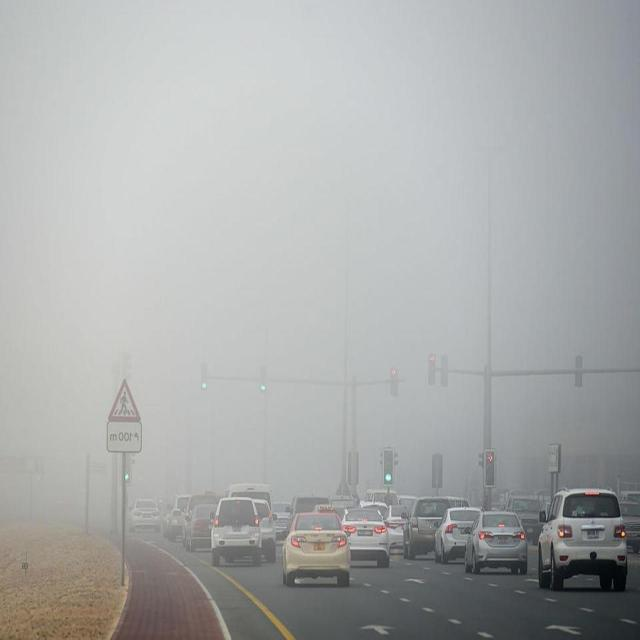Car: (530, 485, 634, 595), (282, 509, 351, 586), (464, 509, 528, 575), (210, 495, 267, 566), (407, 495, 468, 560), (341, 506, 391, 568), (183, 492, 222, 550), (502, 496, 547, 544), (289, 493, 330, 540), (166, 493, 192, 540), (130, 498, 160, 532)
